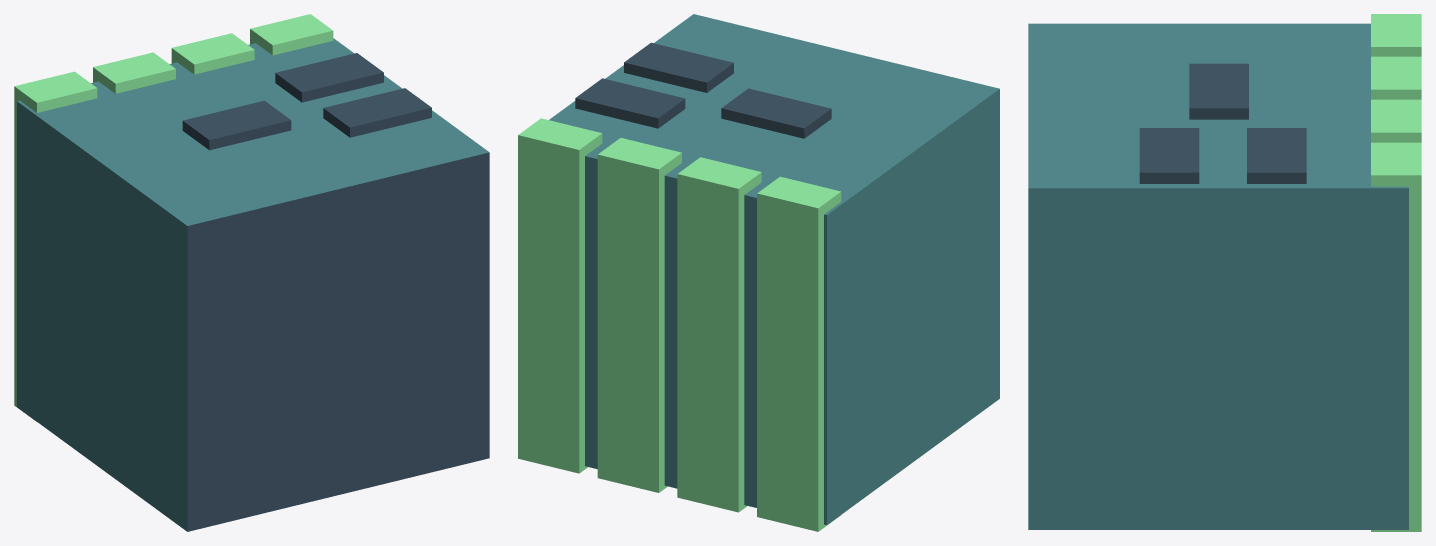
File: F_Wall.fbx
3 renders of one model, left to right at view 1: azimuth 30°, elevation 25°; view 2: azimuth 150°, elevation 25°; view 3: azimuth 270°, elevation 25°, orthographic. The views are drawn at different scales.
Visible parts, largest first — view 1: F_ScianyMiniGra; view 2: F_ScianyMiniGra; view 3: F_ScianyMiniGra.
Boxes of the visible parts, x1,y1,x2,y2 form: F_ScianyMiniGra: (14, 14, 489, 531); F_ScianyMiniGra: (518, 14, 999, 531); F_ScianyMiniGra: (1028, 14, 1421, 531).
Size of the model in its own units: 99.03 by 100 by 100.
